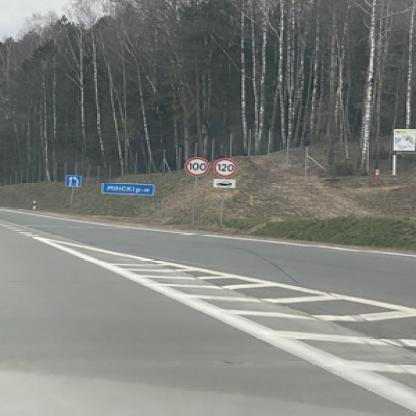speedlimit: (184, 156, 208, 174), (212, 157, 235, 174)
